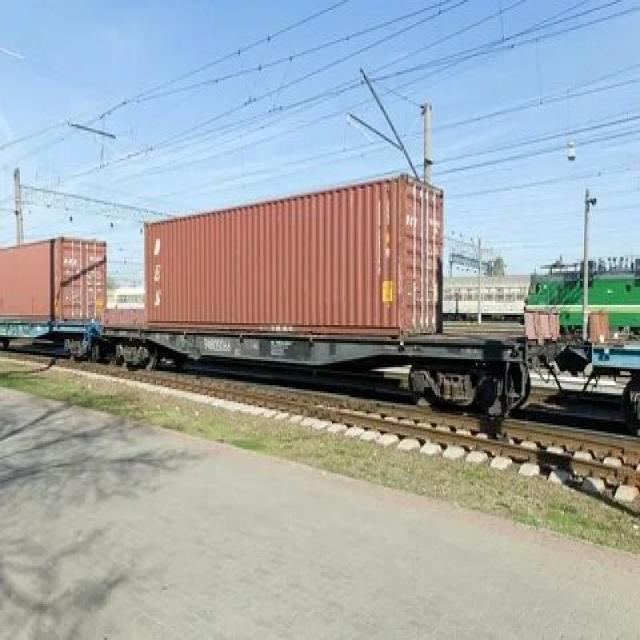container: (138, 167, 446, 331), (0, 228, 109, 319)
flatcar: (98, 321, 537, 440), (0, 318, 94, 362)
locomotive: (517, 261, 640, 337)
